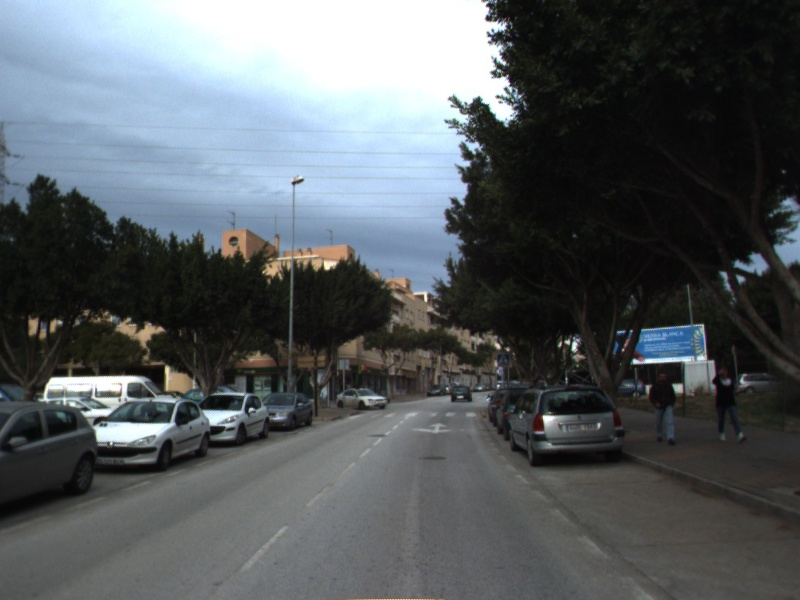STRAIGHT_LEFT_RIGHT: (409, 420, 468, 435)
